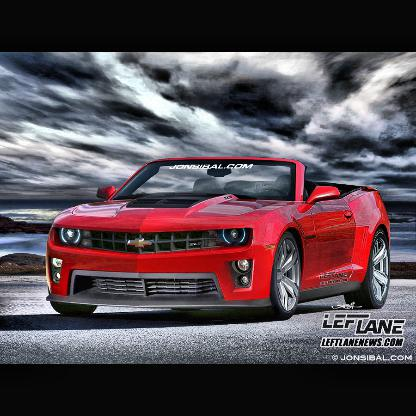Chevrolet Camaro Convertible 2012: (42, 156, 394, 322)
